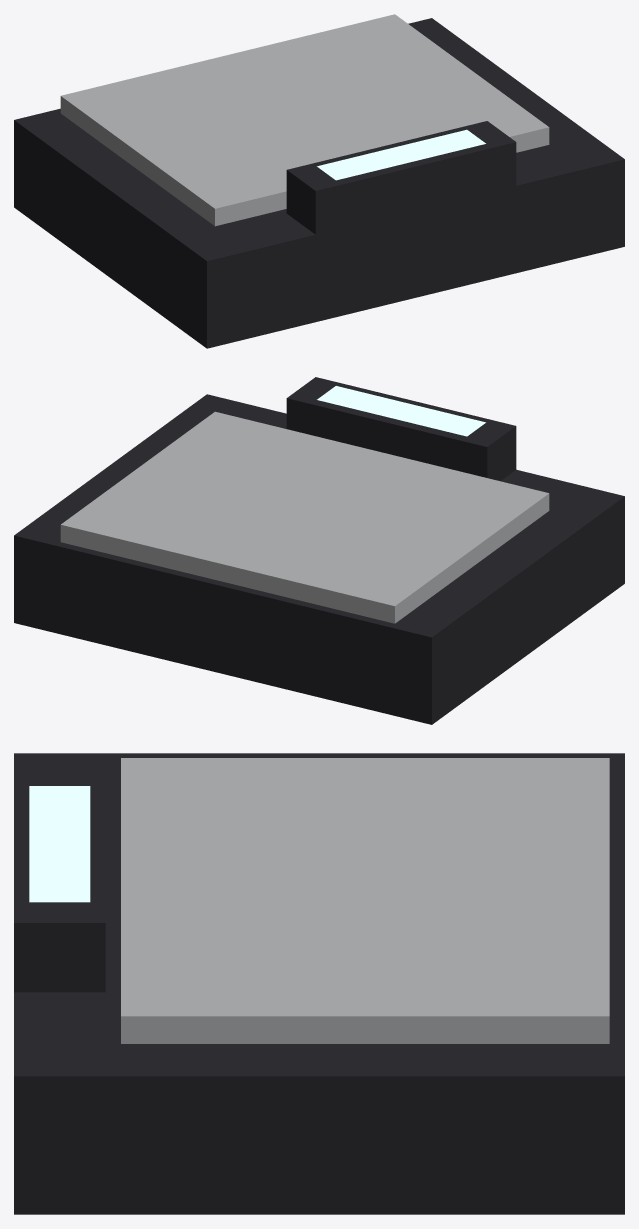
File: Coke_Scale.glb
3 views of the same model, one above another, from view 1: azimuth 30°, elevation 25°; view 2: azimuth 150°, elevation 25°; view 3: azimuth 270°, elevation 25° (orthographic). The views are drawn at different scales.
Parts seen in each view (by area): view 1: Coke_Scale; view 2: Coke_Scale; view 3: Coke_Scale.
Part boxes in pixels (box(x1,y1,x2,y2)): Coke_Scale: box(14, 14, 624, 348); Coke_Scale: box(14, 377, 624, 724); Coke_Scale: box(14, 753, 624, 1214).
Size of the model in its own units: 0.25 by 0.0755 by 0.2.
